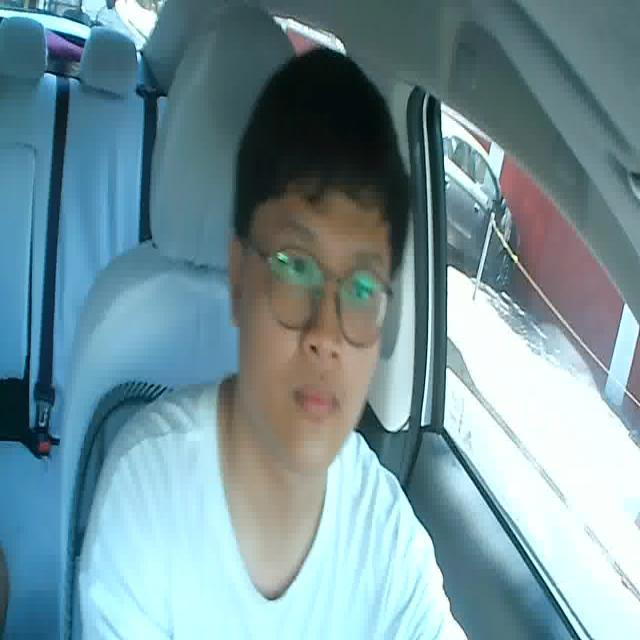Eye-Open: (286, 255, 313, 281), (352, 279, 374, 304)
Inattentive: (234, 49, 415, 482)
Normal: (292, 382, 342, 422)
